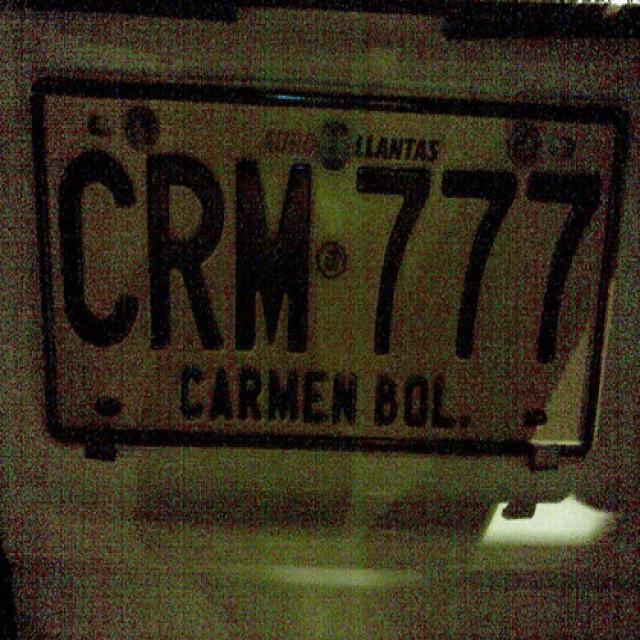placas: (53, 133, 607, 376)
